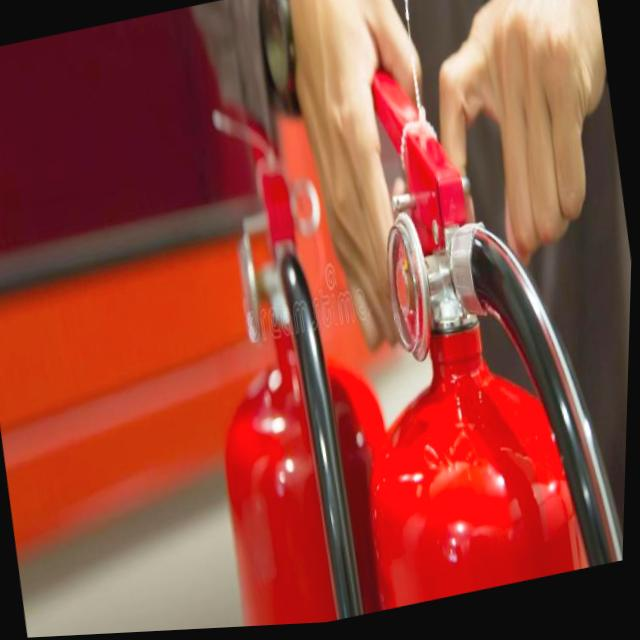FireExtinguisher: (286, 0, 640, 619), (152, 54, 433, 633)
